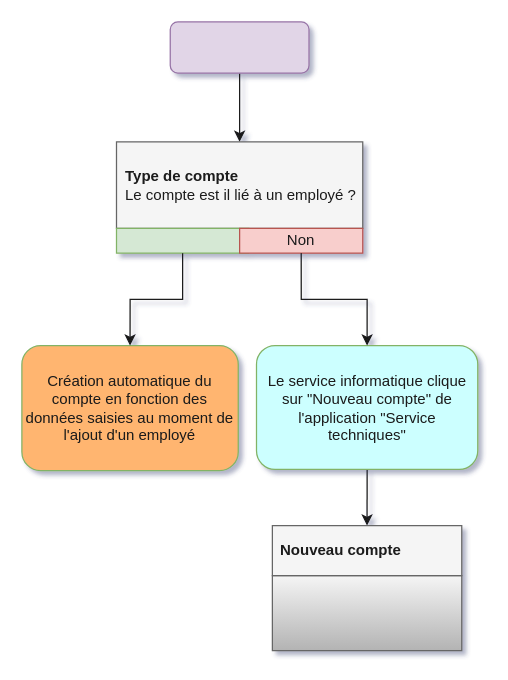
This 508x680 diagram has some shape labels left out. Here are the shapes that lost their labels. From the top down, the centre of each, then its label:
the point at 239,47: Création d'un compte utilisateur
the point at 182,240: Oui
the point at 366,612: # date de création > nom d'utilisateur * mot de passe
